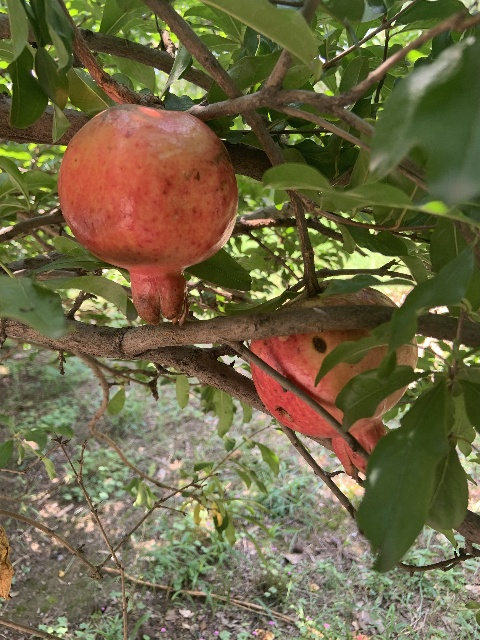ripe: (57, 103, 239, 324), (249, 280, 417, 476)
